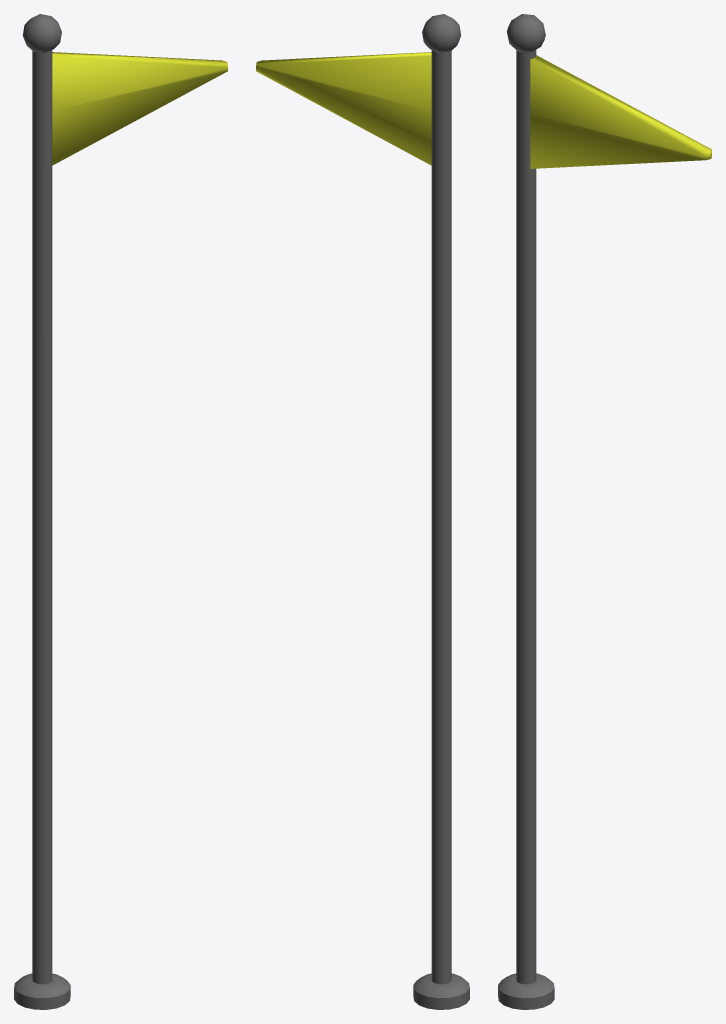
Rendered from flagpole.fbx.
3 renders of one model, left to right at view 1: azimuth 30°, elevation 25°; view 2: azimuth 150°, elevation 25°; view 3: azimuth 330°, elevation 25°, orthographic.
Visible parts, largest first — view 1: Flagpole, Triangle Flag; view 2: Flagpole, Triangle Flag; view 3: Flagpole, Triangle Flag.
Boxes of the visible parts, x1=… form: Flagpole: x1=14, y1=14, x2=70, y2=1009; Triangle Flag: x1=52, y1=52, x2=227, y2=165; Flagpole: x1=413, y1=14, x2=469, y2=1009; Triangle Flag: x1=256, y1=52, x2=431, y2=165; Flagpole: x1=498, y1=14, x2=554, y2=1009; Triangle Flag: x1=530, y1=55, x2=711, y2=168.
Size of the model in its own units: 92.2 by 413 by 21.69.
